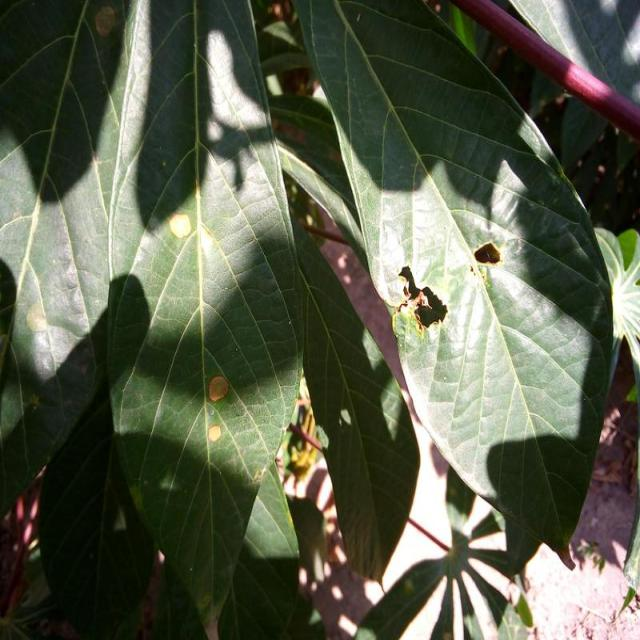cassava leaf: (290, 0, 616, 572), (104, 0, 305, 629)
